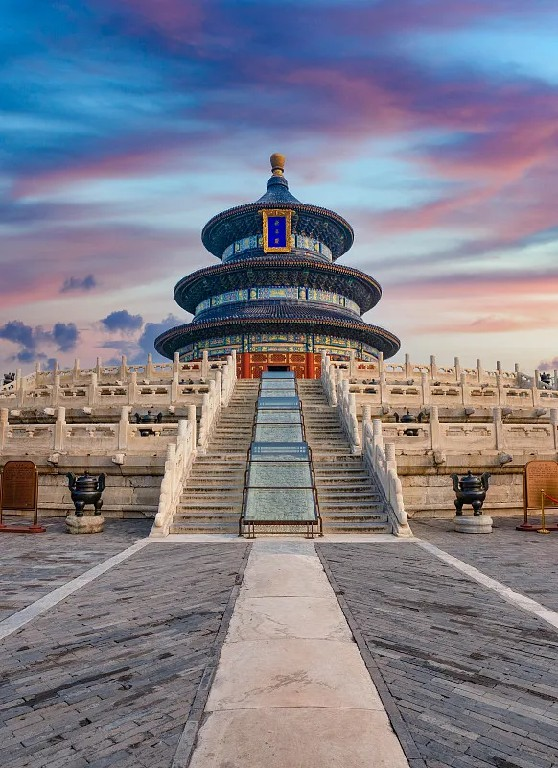Heaven: (151, 152, 404, 379)
